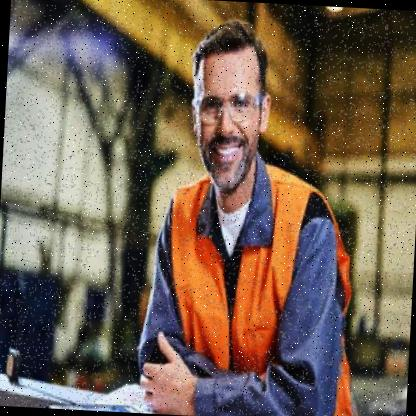oculos: (180, 86, 274, 131)
sem_capacete: (187, 10, 273, 90)
uniforme_seguranca: (149, 168, 363, 416)
